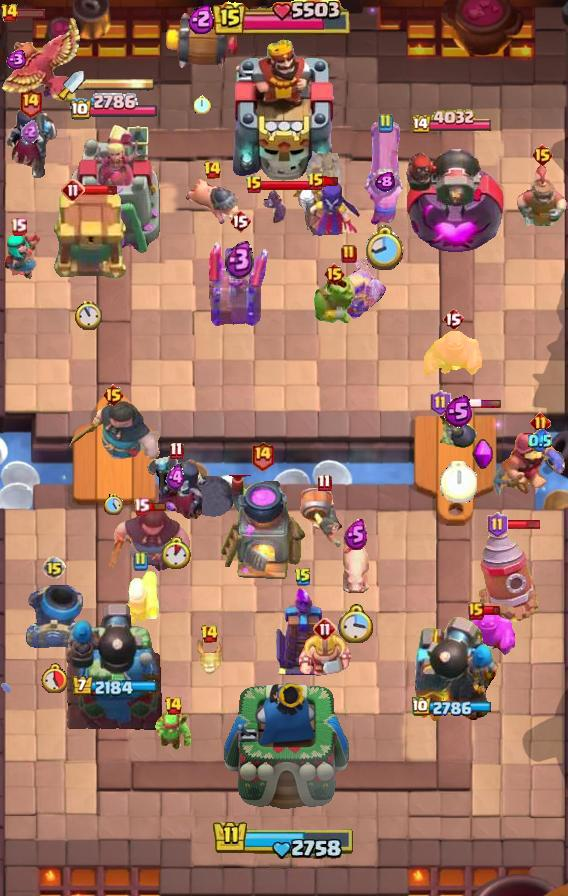bar: (261, 179, 313, 191), (448, 398, 502, 409), (82, 184, 118, 196), (9, 8, 46, 19), (506, 519, 541, 530), (147, 501, 167, 512), (482, 605, 501, 616), (323, 176, 340, 187)
bar-level: (250, 440, 275, 471), (18, 87, 43, 118), (313, 617, 337, 641), (42, 556, 66, 580), (61, 178, 85, 202), (102, 383, 125, 407), (323, 262, 346, 286), (531, 143, 554, 167), (487, 512, 508, 538), (430, 390, 451, 416), (442, 307, 464, 331), (229, 209, 251, 233), (530, 412, 551, 433), (164, 696, 183, 716), (200, 624, 219, 644), (203, 160, 222, 180), (0, 3, 19, 23), (294, 567, 312, 587), (245, 175, 263, 195), (307, 172, 325, 192), (133, 497, 150, 516), (10, 217, 27, 236), (132, 551, 148, 571), (341, 244, 357, 264), (377, 113, 393, 133), (468, 602, 484, 620), (317, 473, 332, 492), (169, 441, 184, 460)
barbarian-barrel: (162, 11, 242, 71)
barbarian-evolution: (333, 258, 389, 321)
bat: (254, 190, 286, 224)
bomb: (185, 457, 236, 519)
bomber: (437, 403, 479, 453)
cannoneer-tower: (64, 601, 164, 731), (401, 138, 505, 256), (403, 615, 503, 731)
clock: (366, 225, 405, 272), (440, 461, 477, 503), (338, 604, 374, 643), (162, 537, 191, 569), (75, 300, 102, 330), (41, 663, 67, 693), (104, 494, 123, 515), (194, 95, 211, 114)
dagger-duchess-tower: (67, 122, 161, 256)
dagger-duchess-tower-bar: (84, 77, 156, 91)
dirt: (304, 148, 342, 198)
elite-barbarian: (298, 630, 352, 678)
elixir: (225, 240, 255, 279), (444, 395, 473, 428), (188, 3, 216, 34), (344, 519, 368, 550), (528, 429, 552, 453), (166, 464, 186, 491), (4, 50, 27, 69), (21, 120, 39, 143), (375, 172, 395, 192)
elixir-golem-mid: (457, 610, 515, 656), (424, 330, 482, 376)
evolution-symbol: (472, 438, 494, 472)
firecracker: (119, 568, 161, 626)
goblin-brawler: (313, 276, 355, 326)
hog: (339, 535, 373, 597)
king-tower: (220, 678, 349, 826), (228, 35, 340, 181)
king-tower-bar: (212, 819, 356, 861), (213, 0, 355, 38)
lava-pup: (194, 637, 224, 675)
mortar: (24, 584, 84, 648)
night-witch: (145, 455, 207, 525), (1, 106, 59, 178)
rascal-girl: (0, 232, 42, 280)
royal-hog: (186, 177, 238, 227)
royal-recruit: (516, 165, 568, 227)
spear-goblin: (153, 708, 193, 752)
tower-bar: (69, 93, 159, 122), (412, 109, 495, 136), (71, 676, 157, 698), (412, 697, 494, 718)
wall-breaker: (299, 485, 349, 549)
witch: (292, 181, 362, 241)
